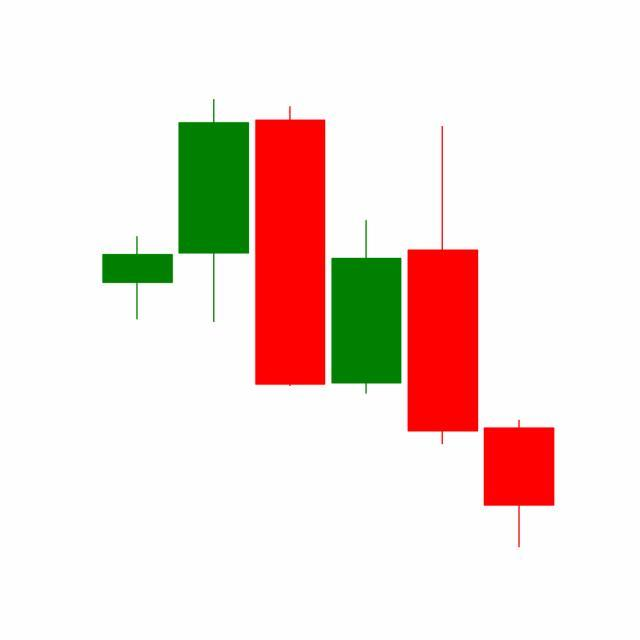Three Outside Up-Down: (326, 123, 555, 549)
